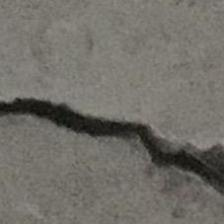Crack: (0, 40, 221, 224)
